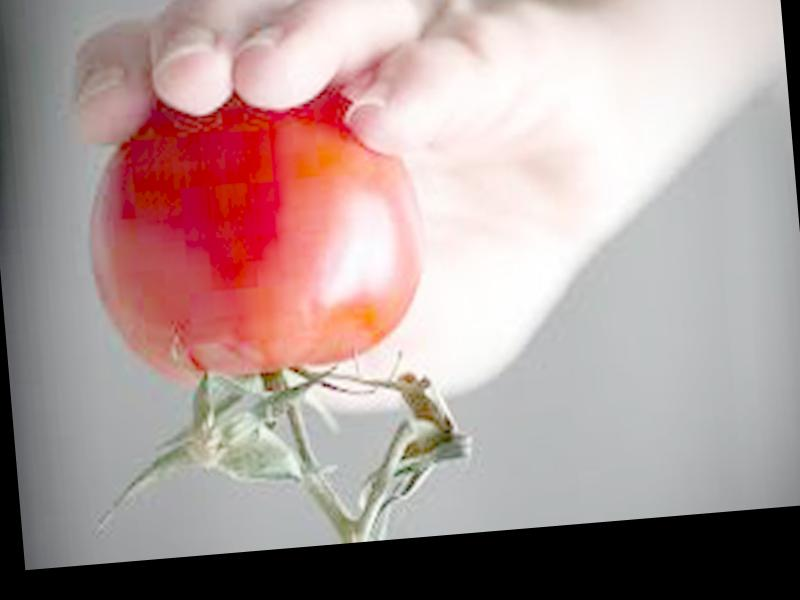Tomato: (77, 80, 432, 398)
